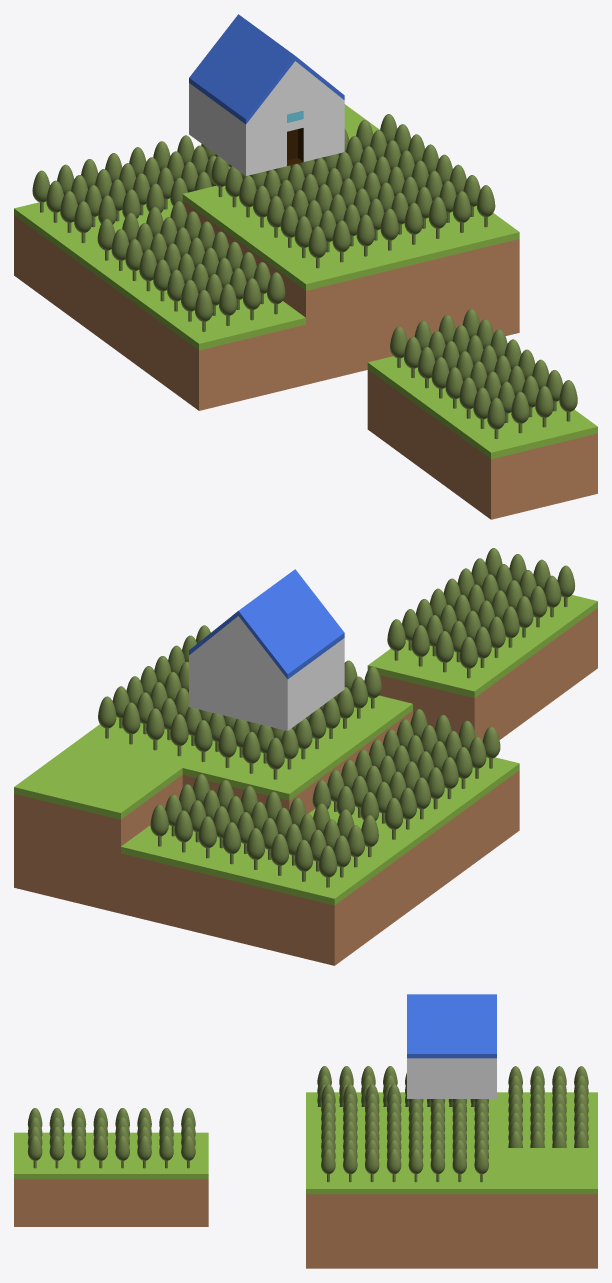
The model's file is redglb.glb.
3 views of the same model, one above another, from view 1: azimuth 30°, elevation 25°; view 2: azimuth 150°, elevation 25°; view 3: azimuth 270°, elevation 25° (orthographic). The views are drawn at different scales.
Parts seen in each view (by area): view 1: Cube.004, Cylinder.002, Cube.018, Cylinder.001, Cylinder.007, Cylinder.008; view 2: Cube.004, Cube.018, Cylinder.002, Cylinder.008, Cylinder.001, Cylinder.007; view 3: Cube.004, Cylinder.002, Cube.018, Cylinder.001, Cylinder.008, Cylinder.007.
Part boxes in pixels (<box>): Cube.004: <box>14,104,597,519</box>; Cylinder.002: <box>211,114,495,268</box>; Cube.018: <box>189,14,344,175</box>; Cylinder.001: <box>390,309,577,439</box>; Cylinder.007: <box>97,201,285,331</box>; Cylinder.008: <box>32,135,231,243</box>; Cube.004: <box>14,595,597,965</box>; Cube.018: <box>189,569,344,730</box>; Cylinder.002: <box>98,625,381,779</box>; Cylinder.008: <box>150,774,378,887</box>; Cylinder.001: <box>387,548,574,678</box>; Cylinder.007: <box>312,709,500,839</box>; Cube.004: <box>14,1092,597,1268</box>; Cylinder.002: <box>321,1084,488,1182</box>; Cube.018: <box>407,994,496,1098</box>; Cylinder.001: <box>27,1108,195,1168</box>; Cylinder.008: <box>508,1066,588,1147</box>; Cylinder.007: <box>317,1066,474,1106</box>.
Bounding box in the file's own units: 1 × 0.8022 × 2.
